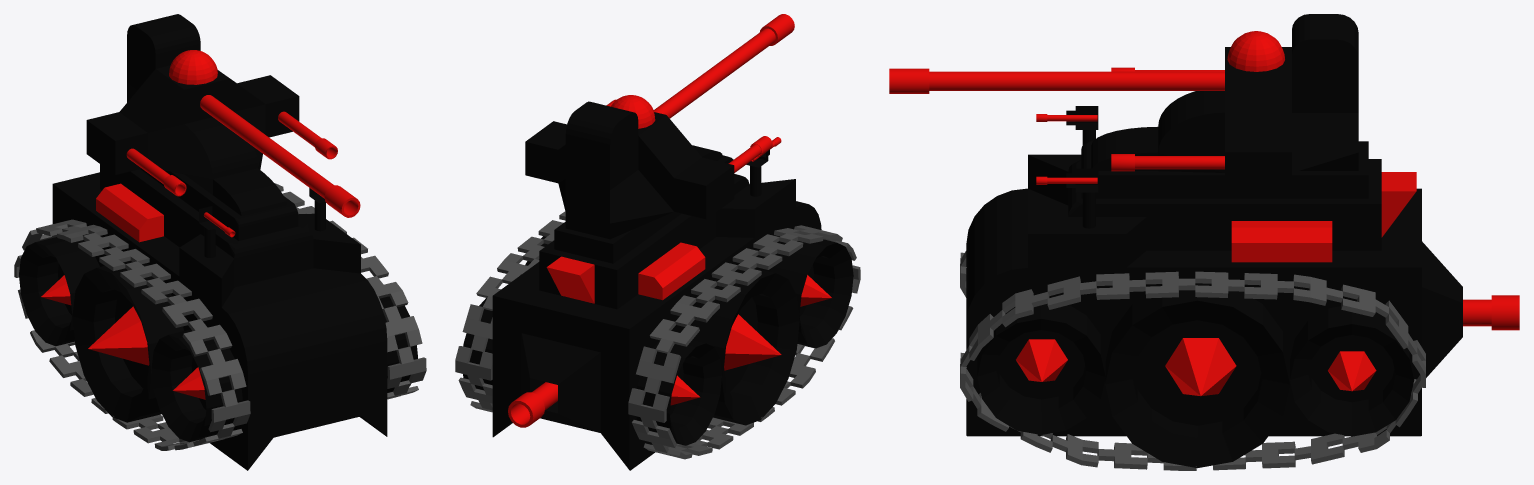
Rendered from 205040056_EmirGeçgin (son).fbx.
3 renders of one model, left to right at view 1: azimuth 30°, elevation 25°; view 2: azimuth 150°, elevation 25°; view 3: azimuth 270°, elevation 25°, orthographic. The views are drawn at different scales.
Parts seen in each view (by area): view 1: Cylinder.017, Cylinder.009, Cylinder.003, Cylinder.006, Cylinder.001, Cylinder.045, Cylinder.004, Cube.001, Cylinder.011, Cone.002, Cylinder.013, Cylinder.012 (+4 smaller); view 2: Cylinder.017, Cylinder.009, Cylinder.003, Cylinder.001, Cylinder.006, Cylinder.045, Cylinder.004, Cube.001, Cone.002, Cube, Cylinder, Cylinder.013 (+4 smaller); view 3: Cylinder.017, Cylinder.005, Cylinder.011, Cylinder.045, Cylinder.010, Cylinder.007, Cylinder.004, Cube.002, Cone, Cylinder.013, Cylinder, Cylinder.014 (+3 smaller).
Boxes of the visible parts, x1,y1,x2,y2 form: Cylinder.017: [52, 14, 387, 470]; Cylinder.009: [14, 219, 250, 450]; Cylinder.003: [72, 260, 183, 422]; Cylinder.006: [19, 237, 99, 346]; Cylinder.001: [151, 327, 242, 442]; Cylinder.045: [274, 183, 426, 399]; Cylinder.004: [200, 95, 360, 217]; Cube.001: [96, 183, 163, 242]; Cylinder.011: [298, 213, 386, 436]; Cone.002: [88, 306, 149, 365]; Cylinder.013: [169, 50, 217, 84]; Cylinder.012: [126, 148, 186, 196]; Cylinder.017: [492, 101, 821, 470]; Cylinder.009: [628, 225, 860, 459]; Cylinder.003: [692, 268, 799, 425]; Cylinder.001: [770, 239, 853, 348]; Cylinder.006: [636, 340, 721, 445]; Cylinder.045: [455, 211, 565, 412]; Cylinder.004: [653, 14, 794, 118]; Cube.001: [638, 242, 705, 300]; Cone.002: [724, 314, 781, 370]; Cube: [546, 256, 594, 303]; Cylinder: [508, 382, 557, 427]; Cylinder.013: [611, 95, 655, 128]; Cylinder.017: [966, 14, 1462, 377]; Cylinder.005: [1105, 283, 1289, 468]; Cylinder.011: [966, 217, 1421, 436]; Cylinder.045: [960, 271, 1425, 470]; Cylinder.010: [977, 303, 1105, 434]; Cylinder.007: [1290, 306, 1414, 436]; Cylinder.004: [889, 68, 1224, 93]; Cube.002: [1231, 221, 1332, 262]; Cone: [1165, 338, 1236, 396]; Cylinder.013: [1227, 31, 1284, 71]; Cylinder: [1463, 295, 1519, 330]; Cylinder.014: [1111, 154, 1224, 171].
Bounding box in the file's own units: 371 × 452 × 672.
